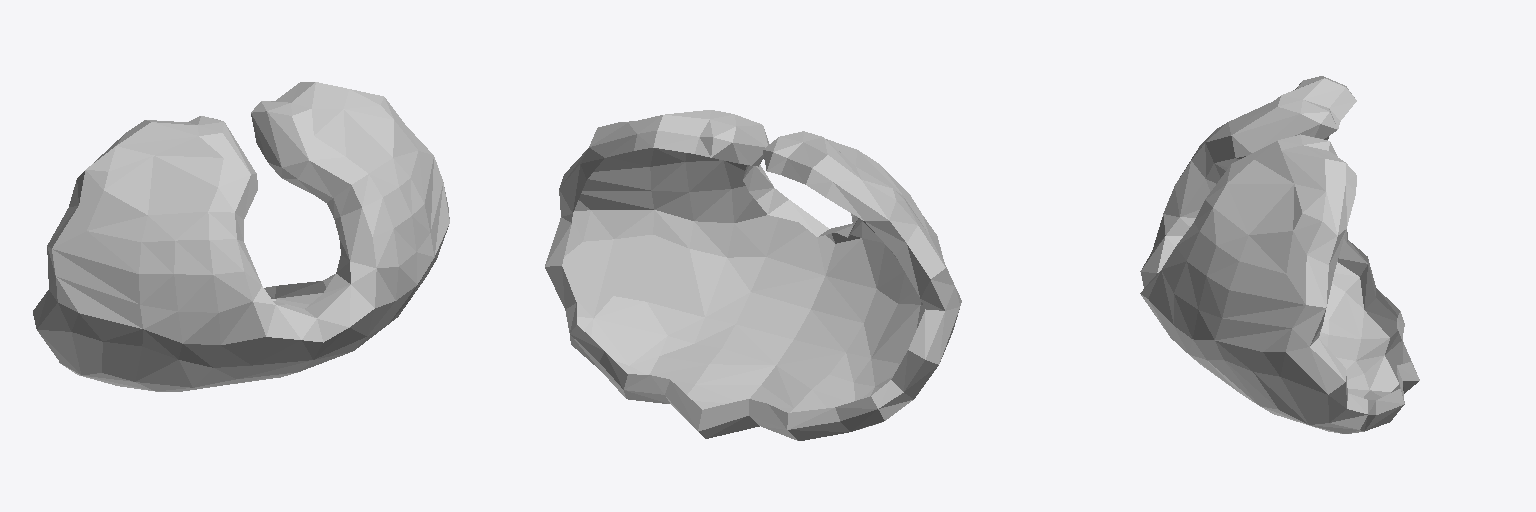
File: Pelt.obj
The picture shows the model from 3 angles: view 1: azimuth 30°, elevation 25°; view 2: azimuth 150°, elevation 25°; view 3: azimuth 270°, elevation 25°; orthographic projection.
Parts seen in each view (by area): view 1: cape fur 2; view 2: cape fur 2; view 3: cape fur 2.
Boxes of the visible parts, x1=… form: cape fur 2: x1=33, y1=82, x2=449, y2=391; cape fur 2: x1=545, y1=110, x2=961, y2=440; cape fur 2: x1=1140, y1=76, x2=1419, y2=433.
Bounding box in the file's own units: 36.13 × 24.33 × 22.43.